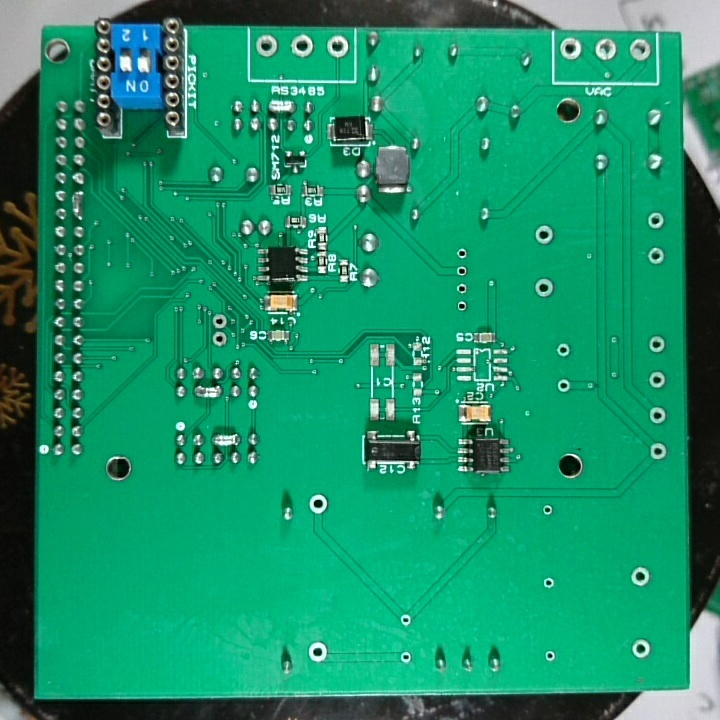F: (628, 33, 654, 66), (288, 31, 316, 60), (254, 32, 281, 60), (592, 35, 618, 63), (305, 491, 331, 519), (630, 635, 655, 663), (325, 34, 351, 60), (531, 223, 558, 248), (628, 564, 652, 592), (559, 35, 584, 61), (531, 274, 556, 300), (305, 641, 332, 665), (646, 439, 670, 463), (647, 403, 668, 429), (645, 333, 669, 355), (646, 369, 668, 391), (646, 210, 667, 232), (646, 246, 667, 268), (397, 646, 415, 668), (555, 375, 572, 398), (452, 243, 472, 262), (210, 329, 230, 348), (554, 340, 572, 361), (210, 310, 228, 331), (398, 610, 415, 632), (452, 263, 471, 280), (454, 278, 471, 297), (455, 296, 471, 316), (540, 501, 556, 520), (540, 575, 557, 592), (543, 647, 559, 664)
P: (68, 187, 86, 223), (209, 431, 244, 448), (265, 98, 298, 116), (191, 383, 223, 401)
